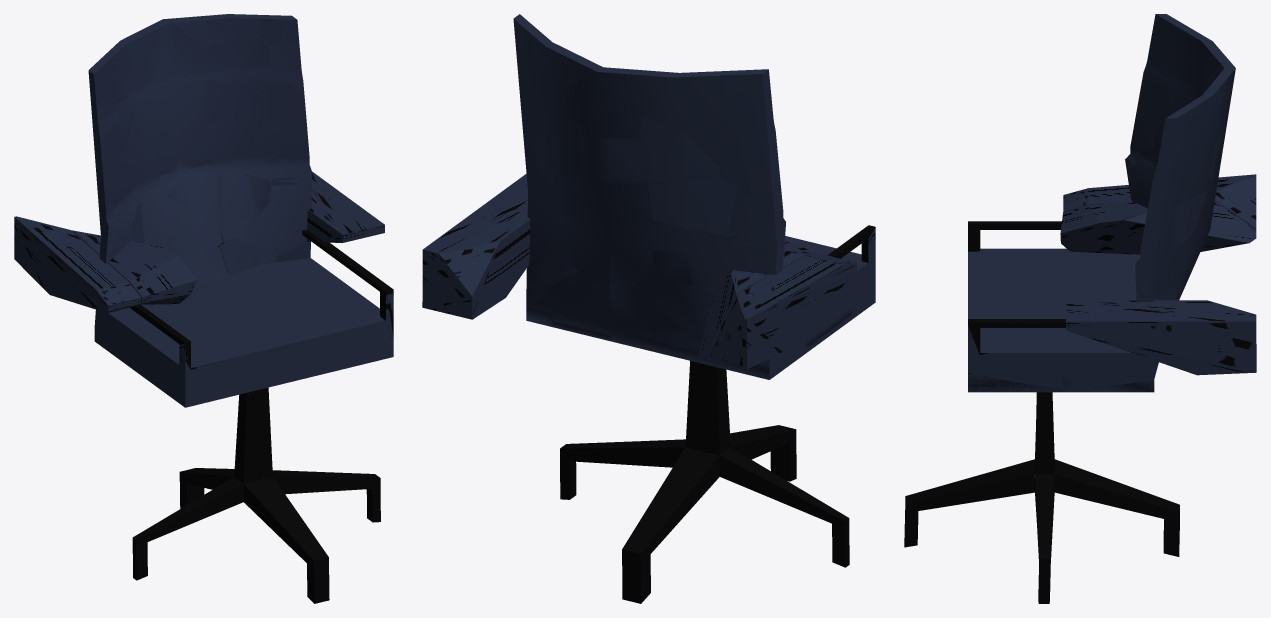
File: Broken chair.fbx
3 renders of one model, left to right at view 1: azimuth 30°, elevation 25°; view 2: azimuth 150°, elevation 25°; view 3: azimuth 270°, elevation 25°, orthographic. The views are drawn at different scales.
Visible parts, largest first — view 1: LOWUpstairsChair_cell.069, LOWUpstairsChair_cell.006, LOWUpstairsChair_cell.036, LOWUpstairsChair_cell.034, LOWUpstairsChair_cell.017, LOWUpstairsChair_cell.056, LOWUpstairsChair_cell.020, LOWUpstairsChair_cell.038, LOWUpstairsChair_cell.001, LOWUpstairsChair_cell.035, LOWUpstairsChair_cell.076, LOWUpstairsChair_cell.047 (+19 smaller); view 2: LOWUpstairsChair_cell.069, LOWUpstairsChair_cell.017, LOWUpstairsChair_cell.006, LOWUpstairsChair_cell.024, LOWUpstairsChair_cell.052, LOWUpstairsChair_cell.022, LOWUpstairsChair_cell.034, LOWUpstairsChair_cell.027, LOWUpstairsChair_cell.043, LOWUpstairsChair_cell.044, LOWUpstairsChair_cell.093, LOWUpstairsChair_cell.050 (+13 smaller); view 3: LOWUpstairsChair_cell.069, LOWUpstairsChair_cell.017, LOWUpstairsChair_cell.034, LOWUpstairsChair_cell.006, LOWUpstairsChair_cell.096, LOWUpstairsChair_cell.057, LOWUpstairsChair_cell.039, LOWUpstairsChair_cell.047, LOWUpstairsChair_cell.036, LOWUpstairsChair_cell.080, LOWUpstairsChair_cell.094, LOWUpstairsChair_cell.086 (+6 smaller).
Boxes of the visible parts, x1=… form: LOWUpstairsChair_cell.069: x1=89, y1=14, x2=393, y2=603; LOWUpstairsChair_cell.006: x1=14, y1=216, x2=141, y2=312; LOWUpstairsChair_cell.036: x1=238, y1=321, x2=347, y2=393; LOWUpstairsChair_cell.034: x1=72, y1=230, x2=197, y2=304; LOWUpstairsChair_cell.017: x1=307, y1=171, x2=384, y2=242; LOWUpstairsChair_cell.056: x1=151, y1=18, x2=202, y2=85; LOWUpstairsChair_cell.020: x1=217, y1=238, x2=292, y2=291; LOWUpstairsChair_cell.038: x1=203, y1=78, x2=263, y2=124; LOWUpstairsChair_cell.001: x1=201, y1=37, x2=269, y2=74; LOWUpstairsChair_cell.035: x1=158, y1=123, x2=212, y2=174; LOWUpstairsChair_cell.076: x1=265, y1=83, x2=307, y2=129; LOWUpstairsChair_cell.047: x1=102, y1=23, x2=161, y2=78; LOWUpstairsChair_cell.069: x1=513, y1=14, x2=875, y2=599; LOWUpstairsChair_cell.017: x1=422, y1=173, x2=530, y2=319; LOWUpstairsChair_cell.006: x1=708, y1=253, x2=856, y2=369; LOWUpstairsChair_cell.024: x1=647, y1=175, x2=738, y2=236; LOWUpstairsChair_cell.052: x1=640, y1=116, x2=719, y2=182; LOWUpstairsChair_cell.022: x1=577, y1=124, x2=646, y2=183; LOWUpstairsChair_cell.034: x1=698, y1=241, x2=816, y2=359; LOWUpstairsChair_cell.027: x1=605, y1=237, x2=657, y2=294; LOWUpstairsChair_cell.043: x1=708, y1=374, x2=761, y2=459; LOWUpstairsChair_cell.044: x1=610, y1=290, x2=672, y2=342; LOWUpstairsChair_cell.093: x1=683, y1=457, x2=778, y2=513; LOWUpstairsChair_cell.050: x1=649, y1=375, x2=707, y2=455; LOWUpstairsChair_cell.069: x1=904, y1=14, x2=1235, y2=603; LOWUpstairsChair_cell.017: x1=1066, y1=300, x2=1256, y2=375; LOWUpstairsChair_cell.034: x1=1060, y1=201, x2=1256, y2=254; LOWUpstairsChair_cell.006: x1=1063, y1=174, x2=1256, y2=228; LOWUpstairsChair_cell.096: x1=1059, y1=353, x2=1149, y2=389; LOWUpstairsChair_cell.057: x1=968, y1=373, x2=1064, y2=392; LOWUpstairsChair_cell.039: x1=974, y1=238, x2=1032, y2=282; LOWUpstairsChair_cell.047: x1=1176, y1=25, x2=1230, y2=80; LOWUpstairsChair_cell.036: x1=968, y1=282, x2=1002, y2=318; LOWUpstairsChair_cell.080: x1=1136, y1=80, x2=1168, y2=130; LOWUpstairsChair_cell.094: x1=1171, y1=189, x2=1206, y2=252; LOWUpstairsChair_cell.086: x1=1172, y1=50, x2=1209, y2=96.
Bounding box in the file's own units: 80.62 × 131 × 86.06.
